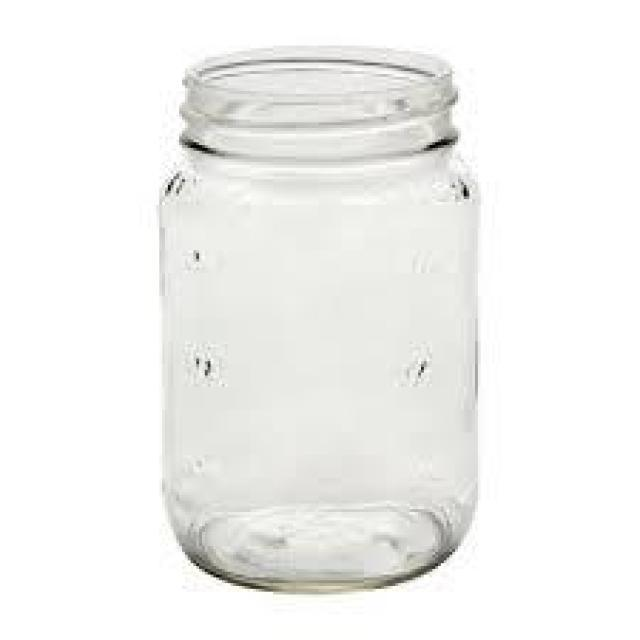Glass: (159, 41, 481, 593)
